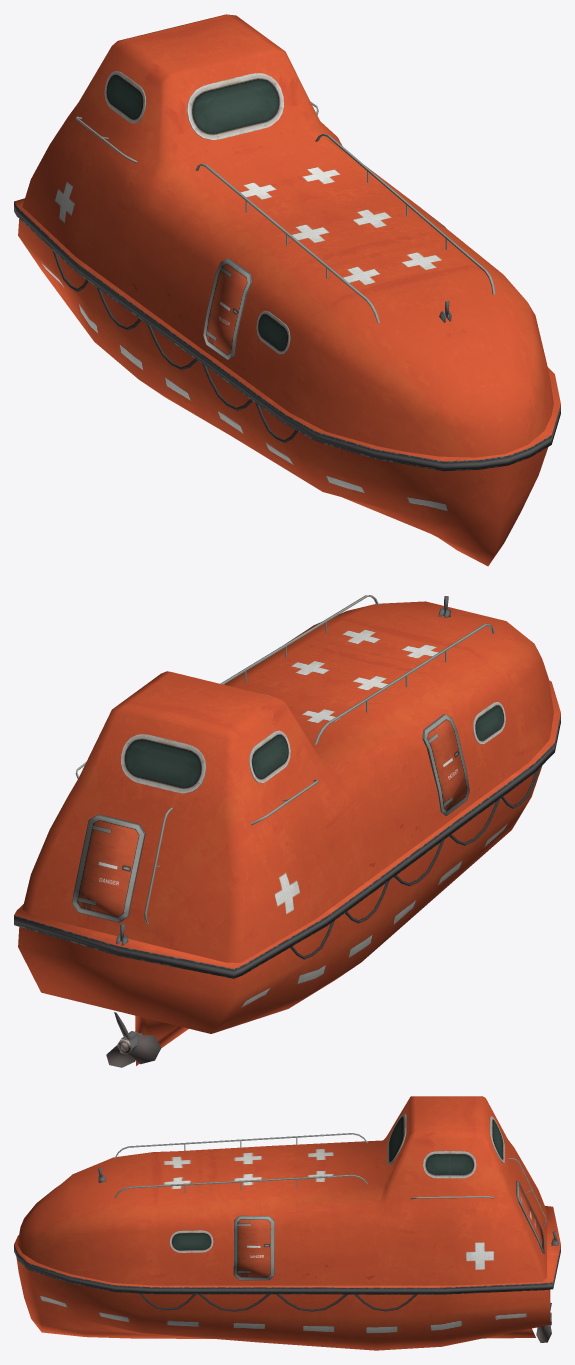
Rendered from Lifeboat.fbx.
3 renders of one model, top to bottom at view 1: azimuth 30°, elevation 25°; view 2: azimuth 150°, elevation 25°; view 3: azimuth 270°, elevation 25°, orthographic. The views are drawn at different scales.
Parts seen in each view (by area): view 1: boat.000; view 2: boat.000, boat.001; view 3: boat.000.
Boxes of the visible parts, x1,y1,x2,y2 form: boat.000: (14,14,560,566); boat.000: (14,595,560,1065); boat.001: (106,1012,161,1067); boat.000: (14,1096,560,1350).
Bounding box in the file's own units: 657 × 802 × 1762.
